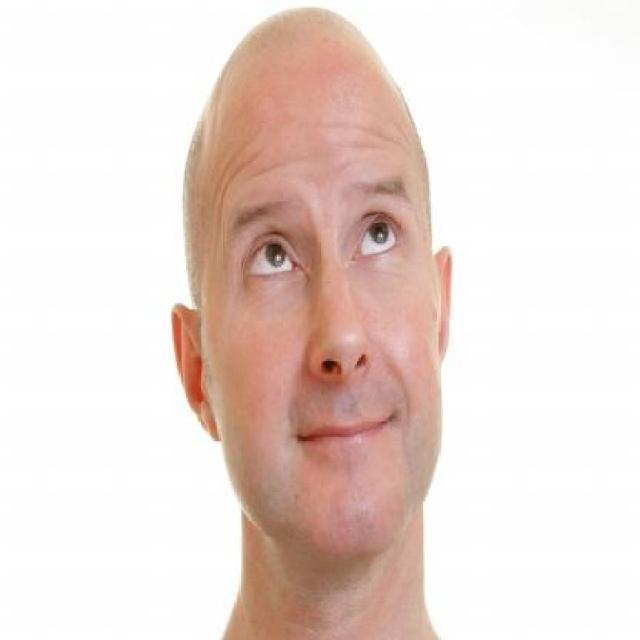no_helmet: (160, 0, 460, 248)
